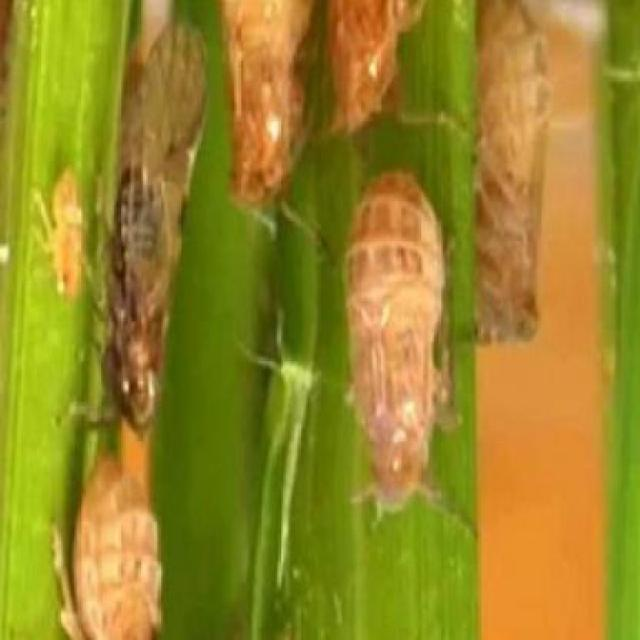brown-planthopper: (108, 13, 207, 425), (343, 166, 446, 517), (474, 0, 541, 346), (224, 1, 318, 210), (72, 449, 160, 640), (44, 167, 87, 296)
